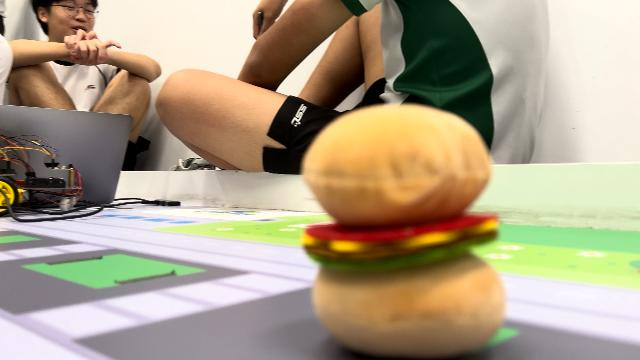burger: (298, 103, 508, 355)
